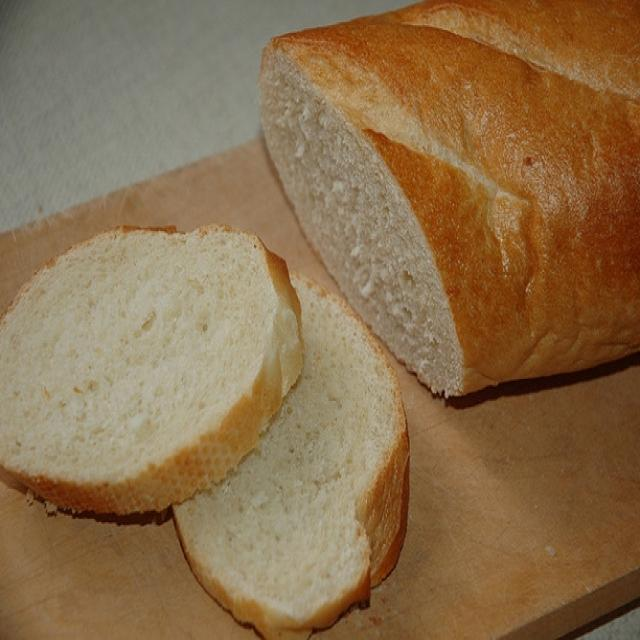Bread: (258, 0, 639, 399), (0, 216, 306, 528)
